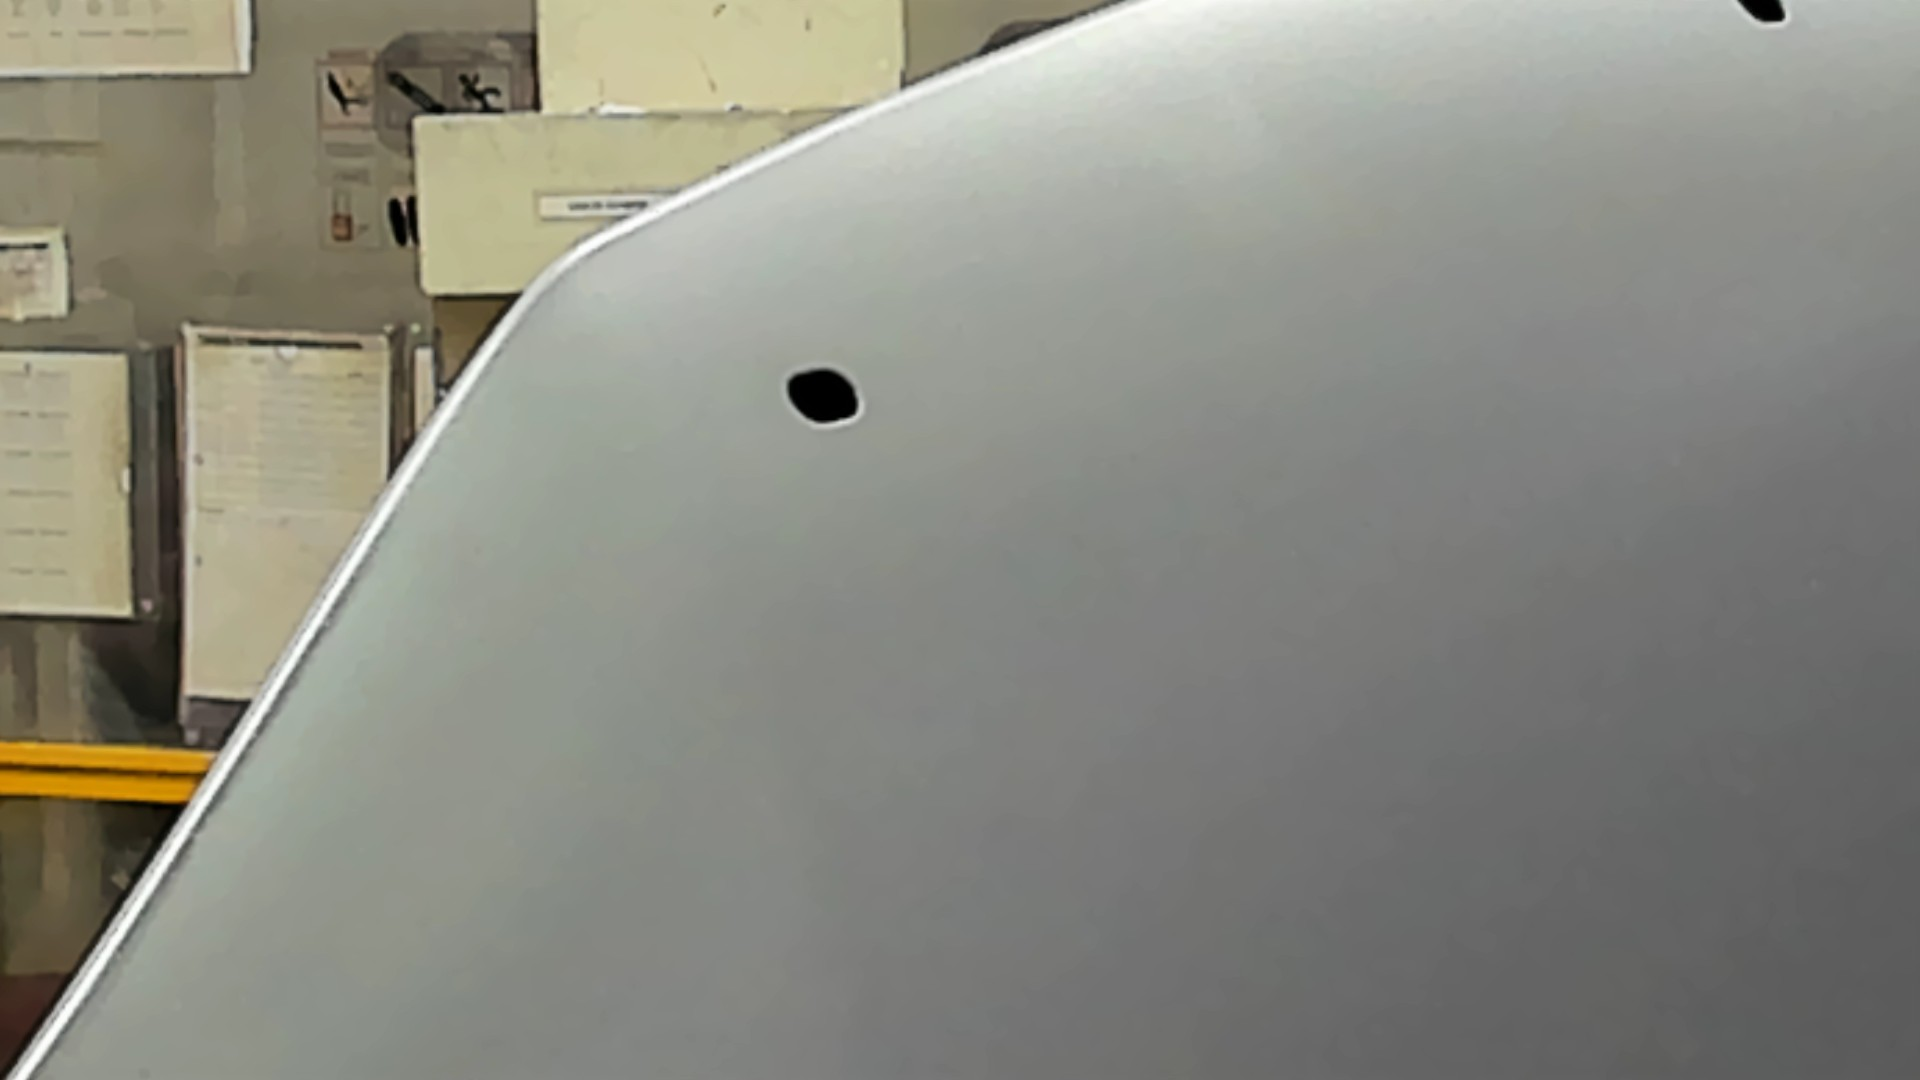amorfo: (779, 363, 862, 429), (1739, 1, 1793, 28)
